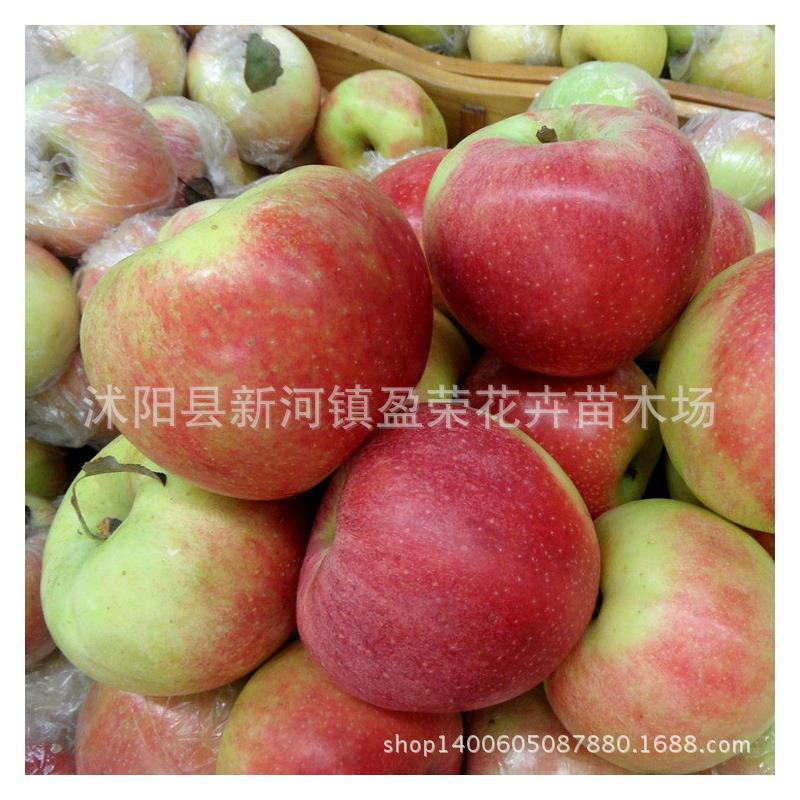apple: (80, 162, 432, 503), (296, 413, 600, 711), (419, 105, 712, 373), (38, 436, 306, 694), (538, 498, 777, 769), (651, 245, 780, 529), (216, 648, 464, 777), (438, 366, 649, 517), (18, 68, 178, 251), (308, 68, 448, 181), (68, 678, 229, 776), (18, 244, 79, 392)
